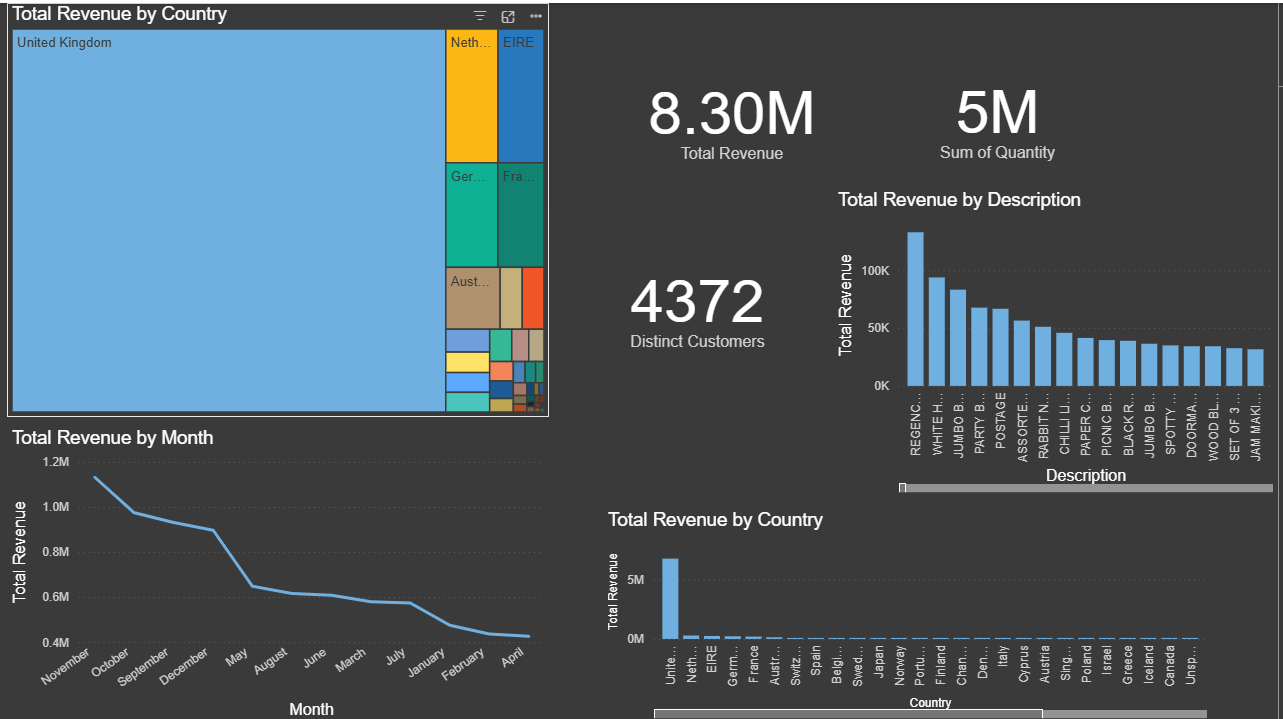

This screenshot's page, from the dashboard's own definition file:
{"tool":"powerbi","page":{"name":"Country Analysis","canvas":[1280,720],"ordinal":1},"visuals":[{"type":"treemap","fields":{"Values":["data.Total Revenue"],"Group":["Customers.Country"]},"box":[10,0,541.6,413.7],"z":0},{"type":"lineChart","fields":{"Category":["Calendar.Month"],"Y":["data.Total Revenue"]},"box":[10,424,542,296],"z":1},{"type":"card","fields":{"Values":["data.Total Revenue"]},"box":[586.5,0,295.8,225.8],"z":2},{"type":"columnChart","fields":{"Category":["Customers.Country"],"Y":["data.Total Revenue"]},"box":[605.5,505.6,608.5,213.8],"z":3},{"type":"card","fields":{"Values":["Sum(data.Quantity)"]},"box":[882.3,39,234.8,146.9],"z":4},{"type":"card","fields":{"Values":["data.Distinct Customers"]},"box":[551.6,206.8,296.8,187.9],"z":5},{"type":"clusteredColumnChart","fields":{"Category":["Customers.Country"],"Y":["data.Total Revenue"]},"box":[835.3,185.9,444.7,307.8],"z":6}]}

Visuals, with their boxes in screenshot pixels (x1, y1, x2, y2), scaled from the page's 1280x720 canvas onto the 1283x719 screenshot:
treemap - data.Total Revenue x Customers.Country: 10, 0, 553, 413
lineChart - Calendar.Month x data.Total Revenue: 10, 423, 553, 718
card - data.Total Revenue: 588, 0, 884, 225
columnChart - Customers.Country x data.Total Revenue: 607, 505, 1217, 718
card - Sum(data.Quantity): 884, 39, 1120, 186
card - data.Distinct Customers: 553, 207, 850, 394
clusteredColumnChart - Customers.Country x data.Total Revenue: 837, 186, 1282, 493
